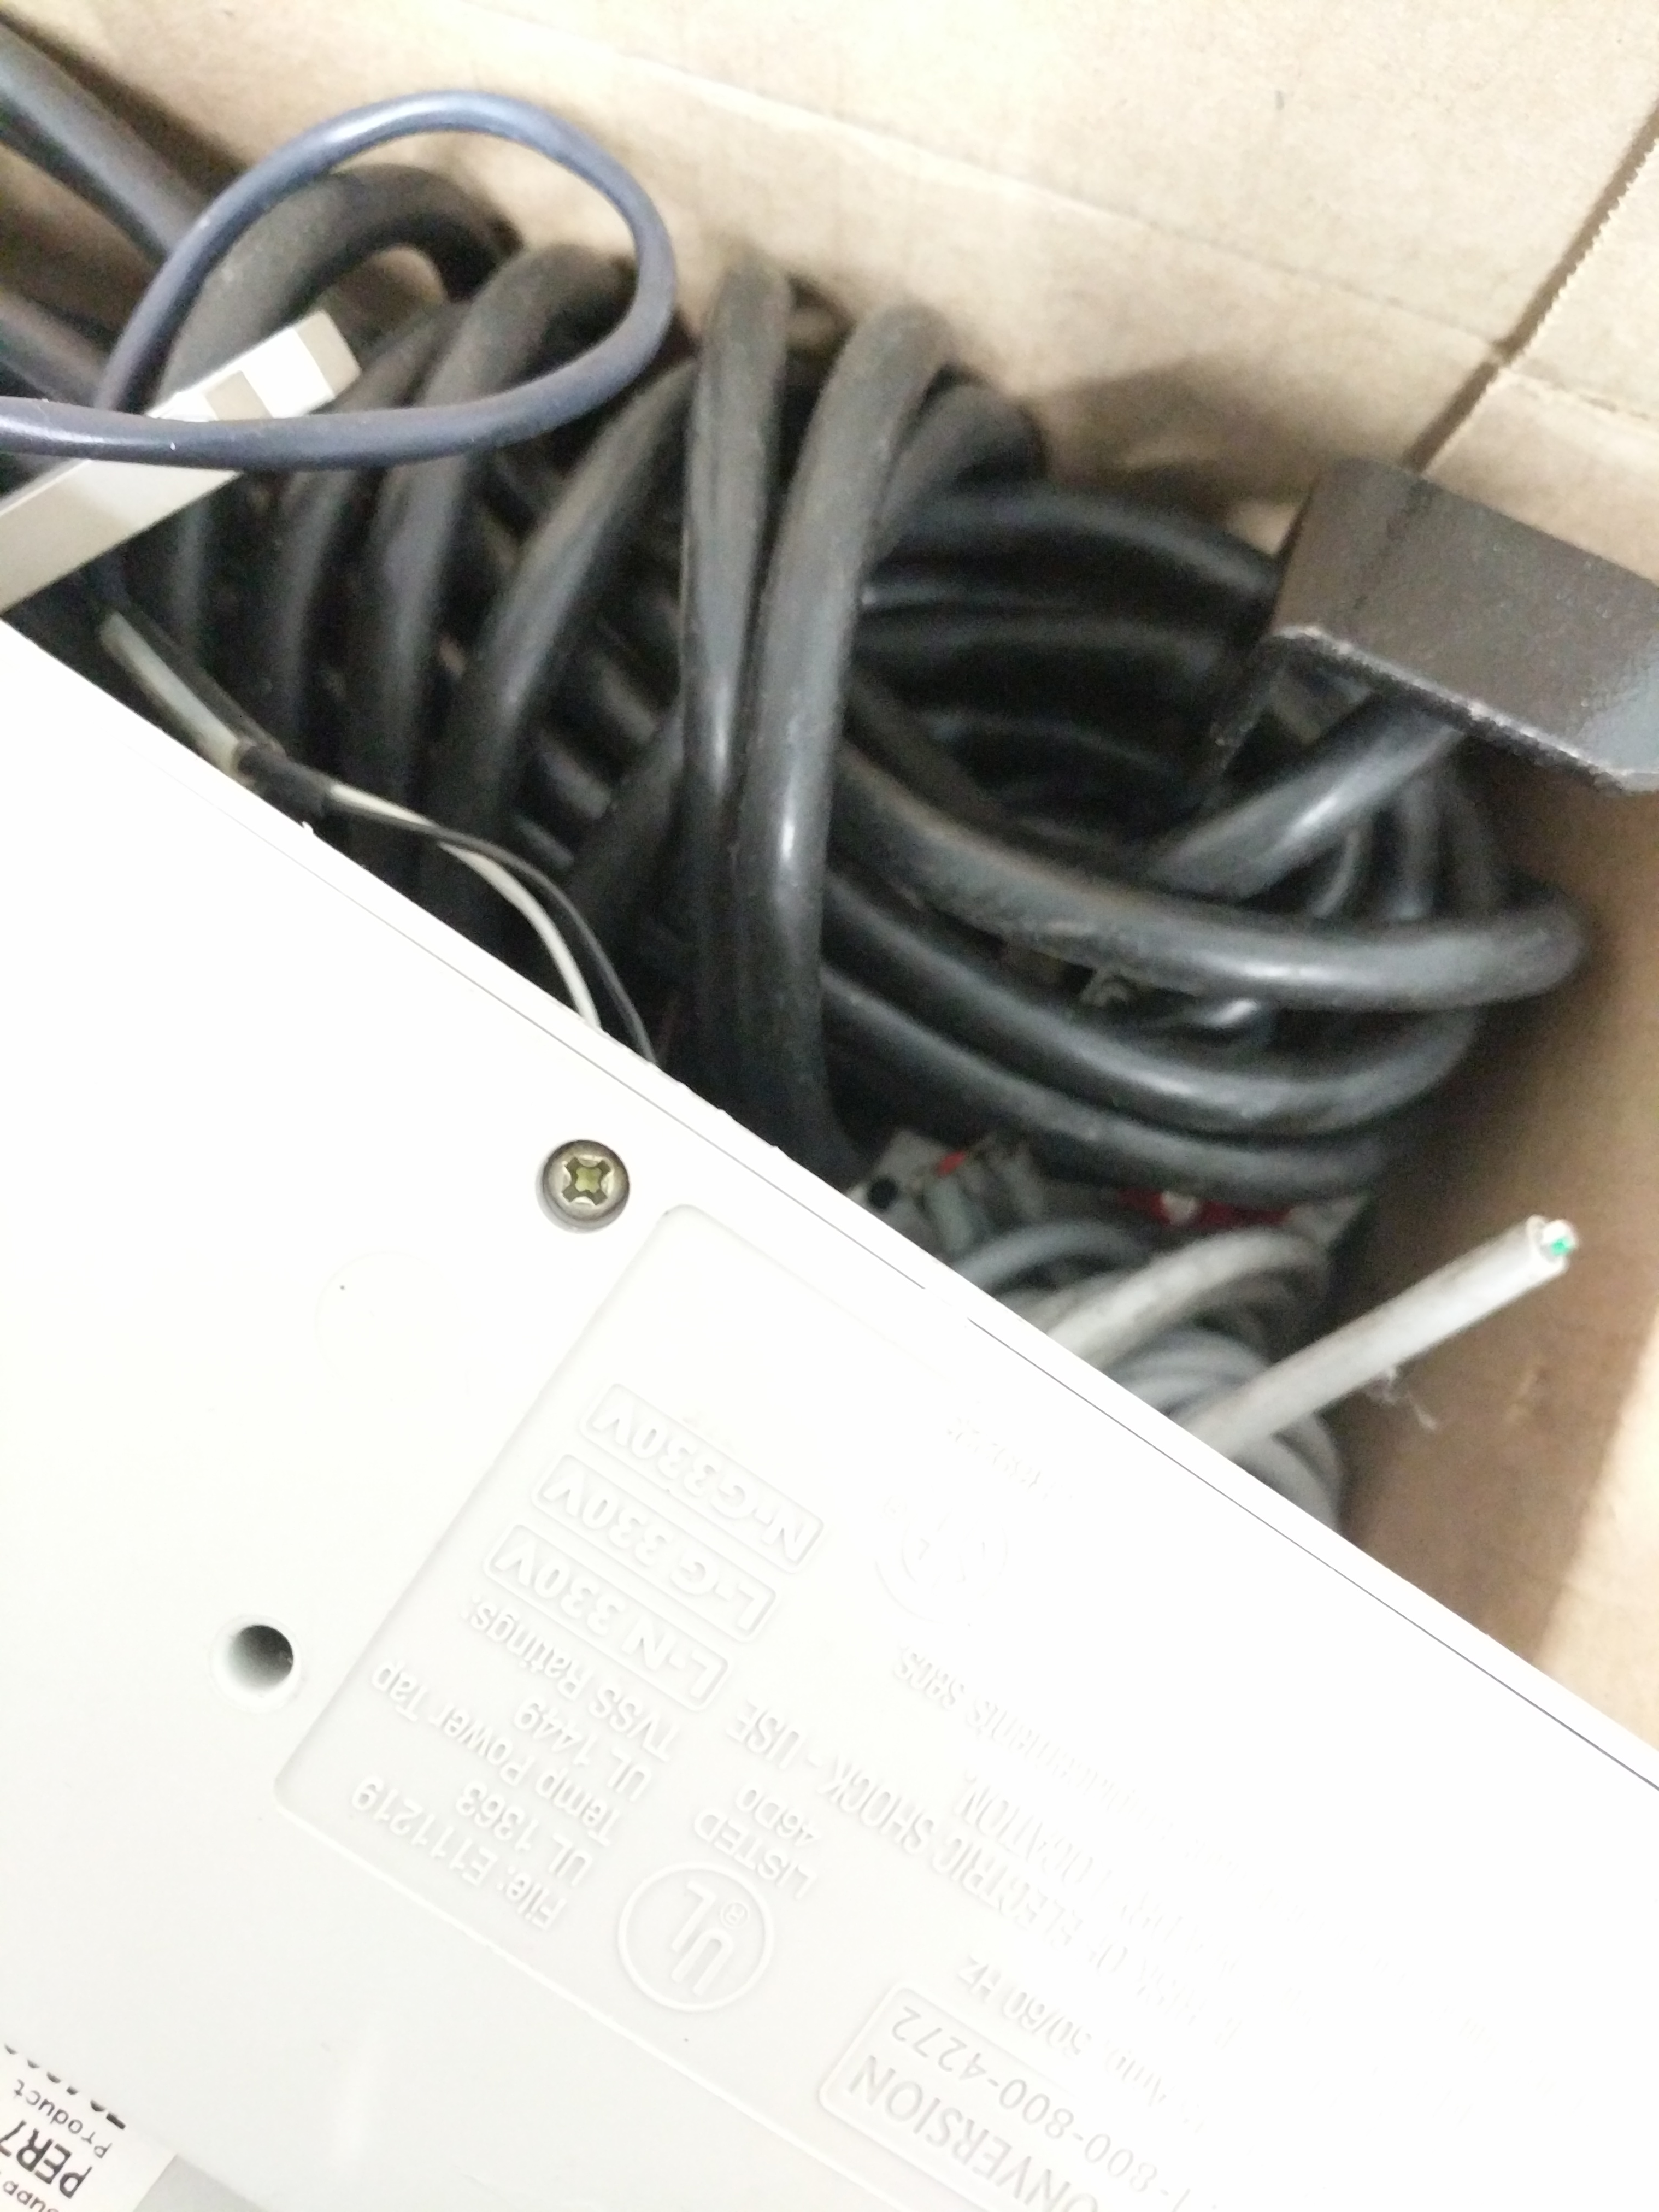cross_recessed_screw: (538, 1132, 633, 1235)
